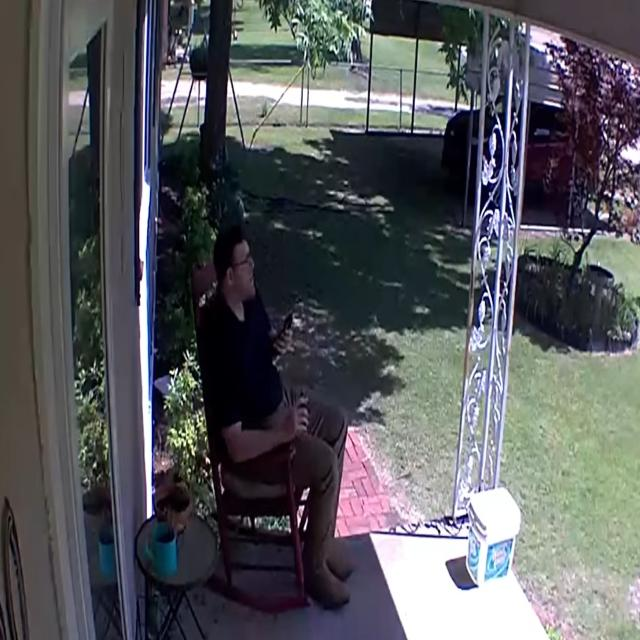sitting: (200, 225, 354, 608)
